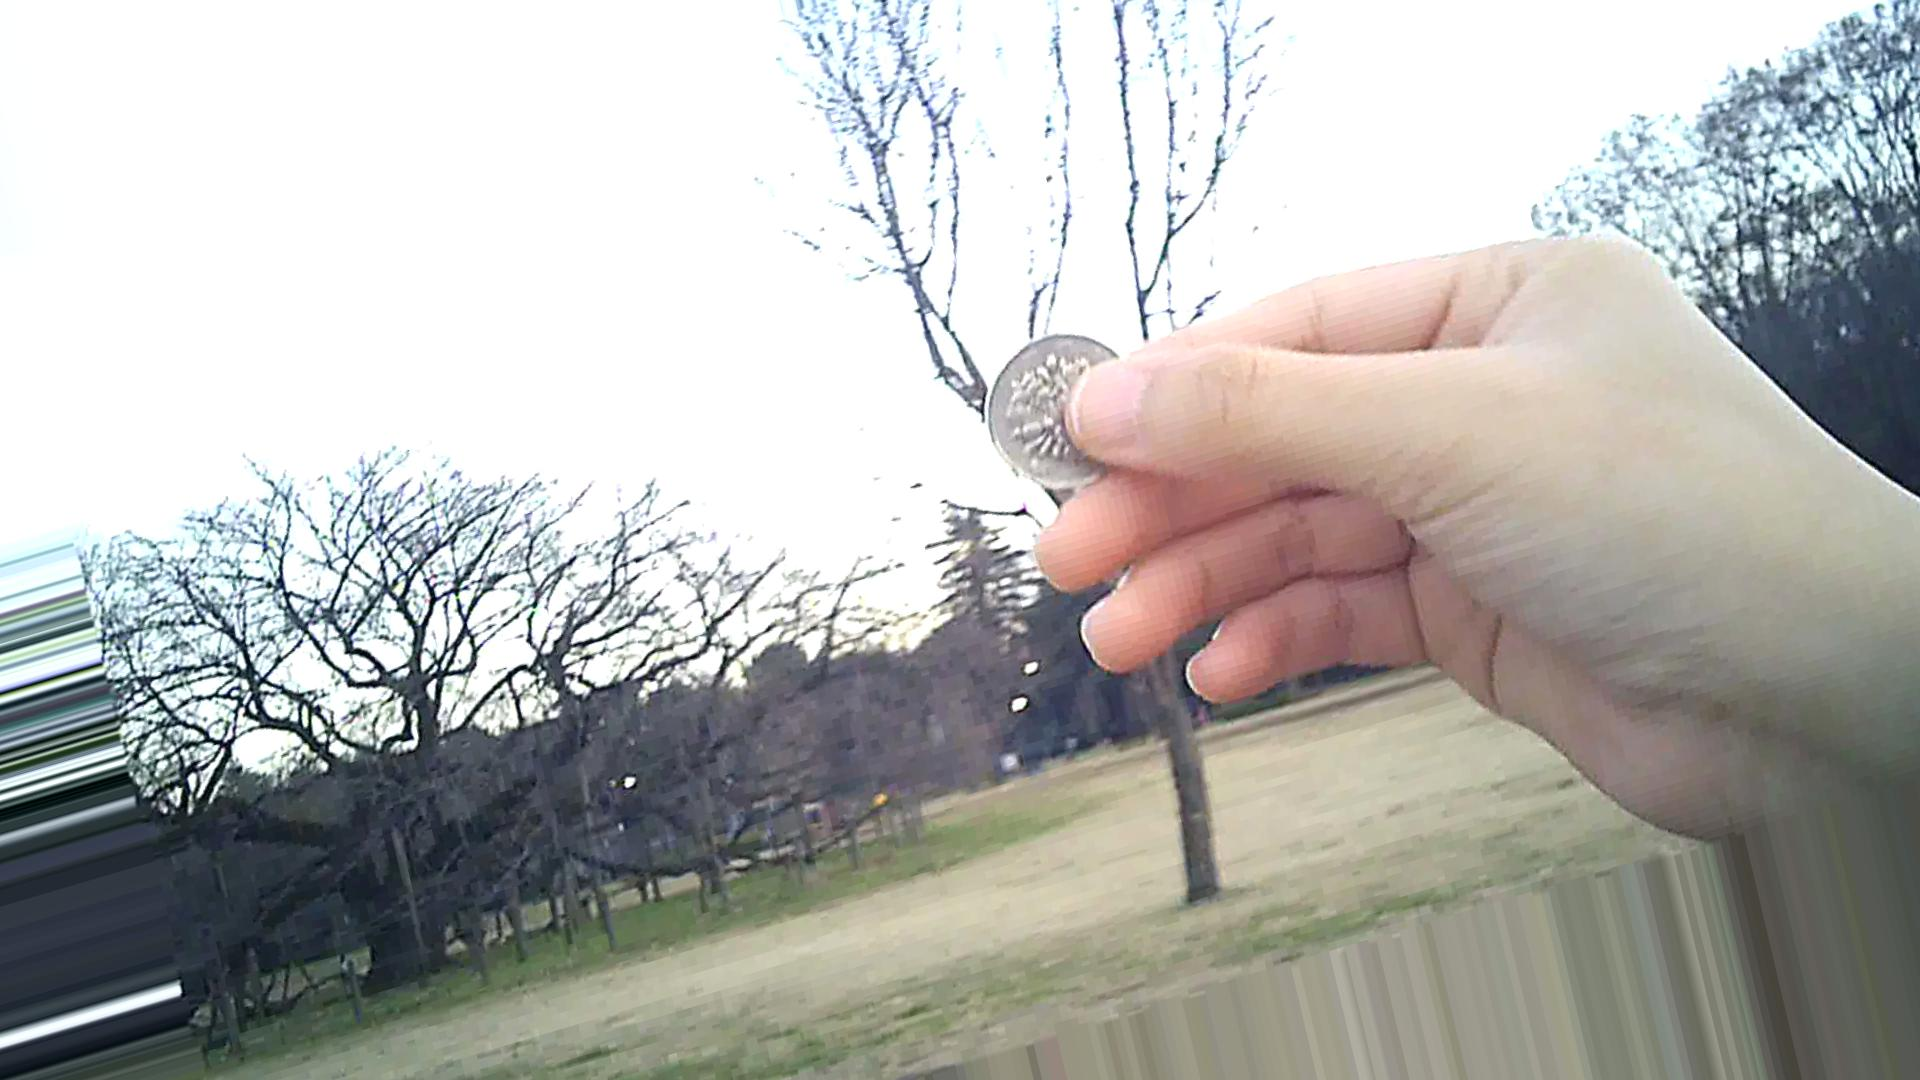100 Yen: (975, 334, 1125, 475)
